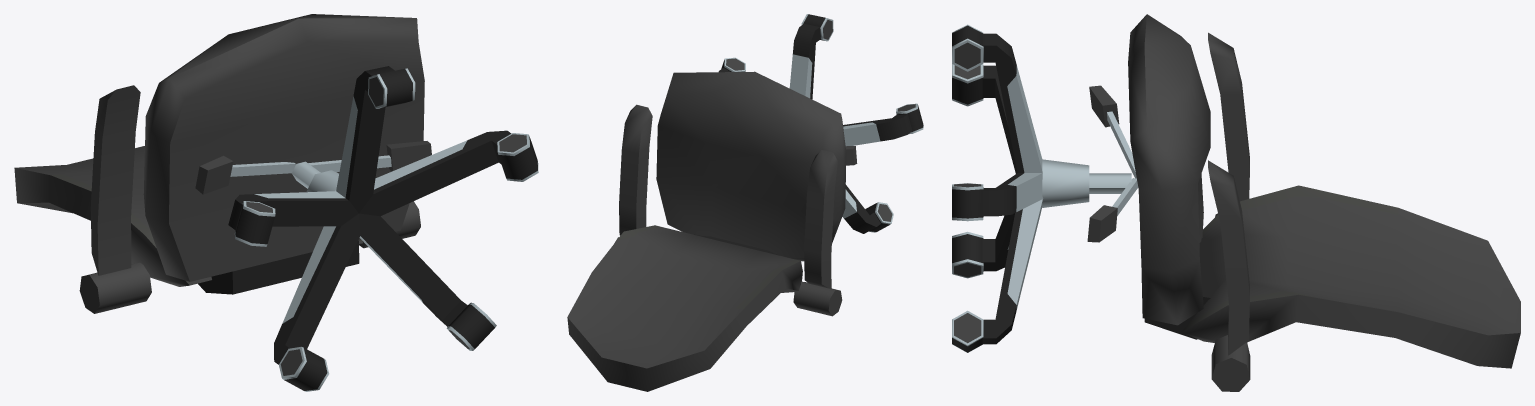
The model's file is task-chair.glb.
The picture shows the model from 3 angles, left to right: view 1: azimuth 30°, elevation 25°; view 2: azimuth 150°, elevation 25°; view 3: azimuth 270°, elevation 25°; orthographic projection. The views are drawn at different scales.
Visible parts, largest first — view 1: office_chair_018; view 2: office_chair_018; view 3: office_chair_018.
Boxes of the visible parts, left/top/right/bottom form: office_chair_018: left=14, top=14, right=538, bottom=391; office_chair_018: left=567, top=14, right=923, bottom=391; office_chair_018: left=952, top=14, right=1520, bottom=391.
Size of the model in its own units: 0.6484 by 0.6561 by 1.04.
1 material, 1 textured.
